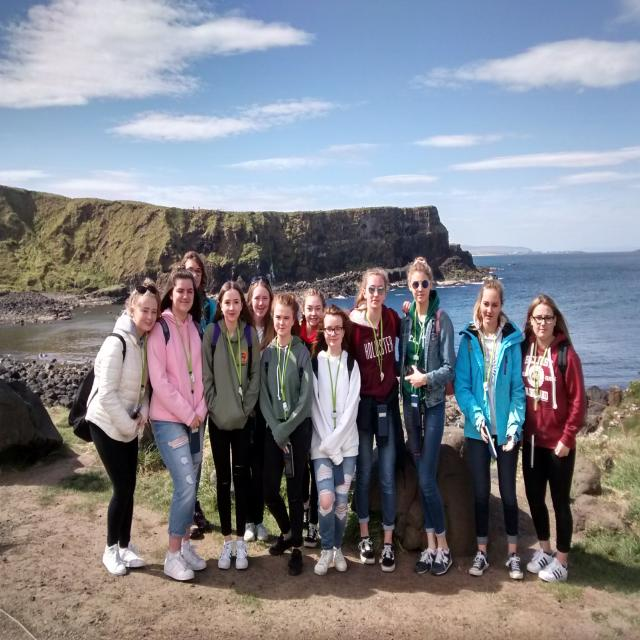body: (132, 520, 640, 600), (67, 280, 164, 578), (452, 277, 528, 584), (144, 266, 213, 584), (343, 265, 412, 574), (394, 256, 456, 576), (521, 293, 588, 584), (200, 279, 262, 573), (258, 290, 316, 580), (304, 303, 363, 578), (180, 250, 218, 540), (242, 274, 277, 542), (297, 287, 328, 549)
